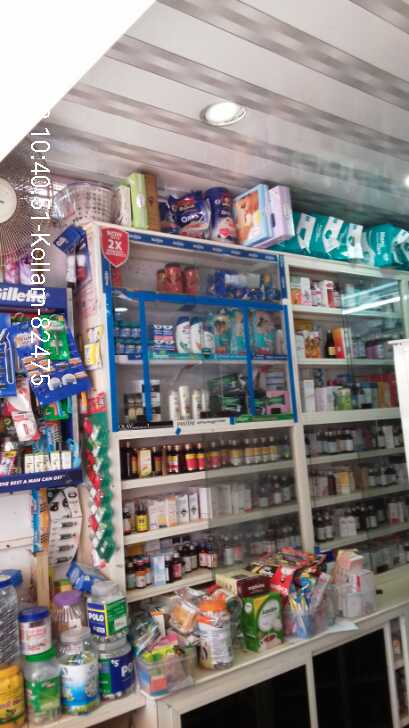vicks: (110, 324, 179, 358)
